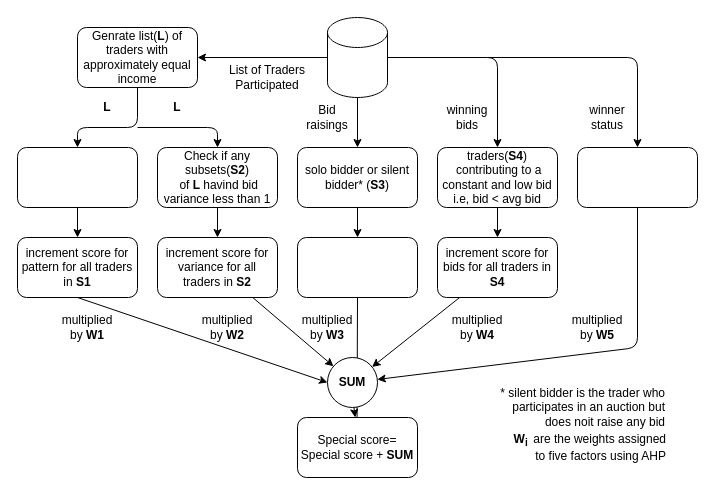
Some shapes in this 715 by 495 pixel diagram are drawn without their labels. The shapes that lost their labels are listed below. From the top down, each one's centre as x and y in pixels, then its label:
At point 357,57: "Auction Data".
At point 77,177: "Check if any subsets( S1 ) of L following any winning pattern".
At point 637,177: "Calculate Rate of winning for all participants( L )".
At point 357,267: "increment score for raisings for all traders in S3".
